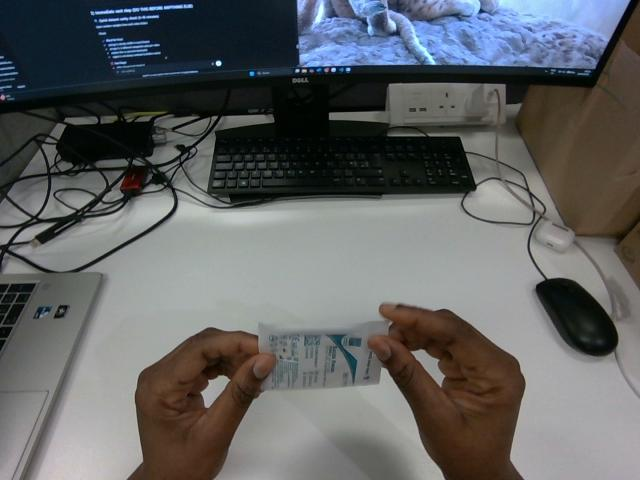gauze: (259, 321, 388, 389)
